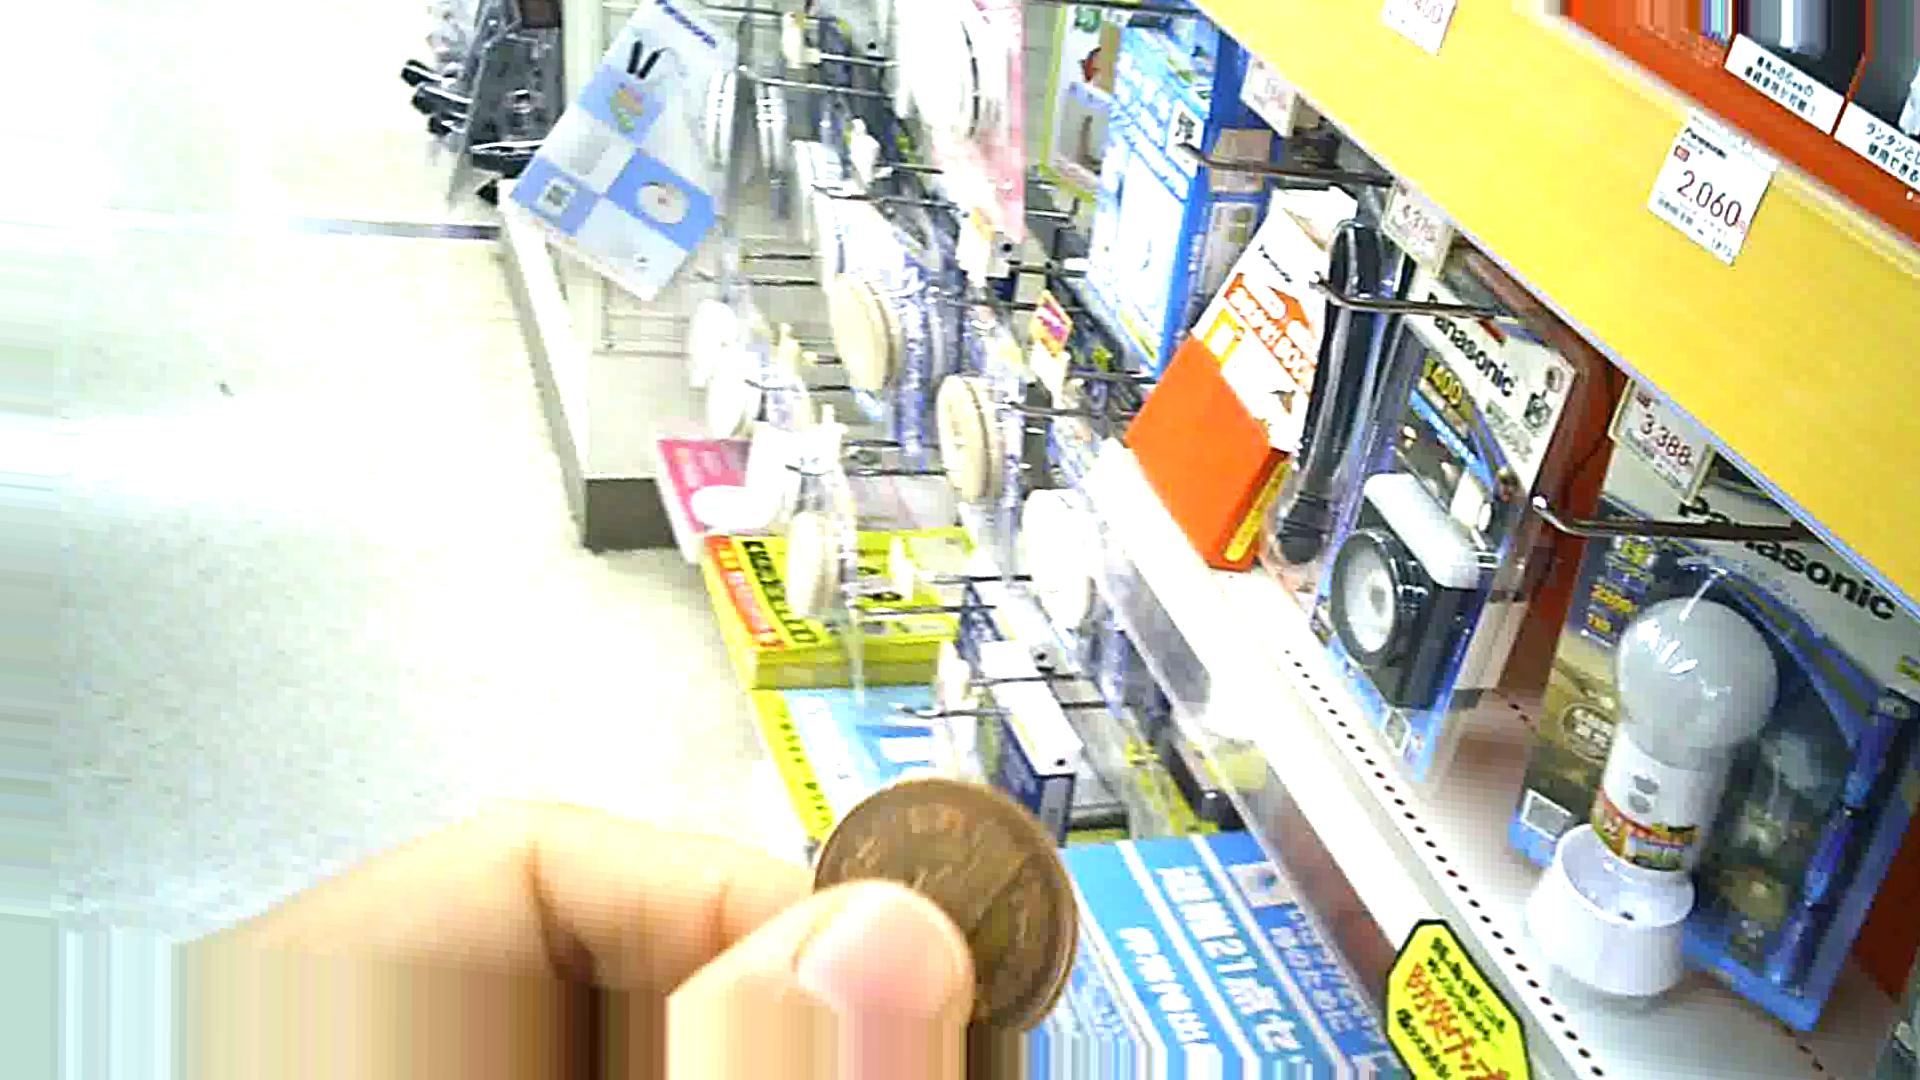10 Yen: (802, 783, 1083, 1043)
